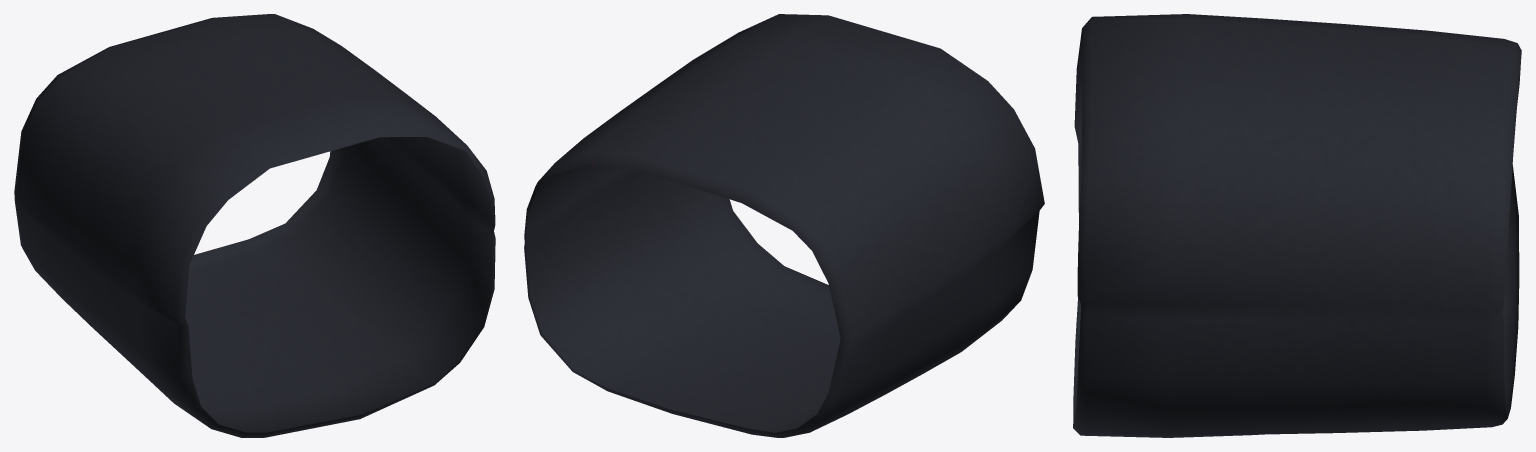
The model's file is L_WRIST_Y.obj.
The picture shows the model from 3 angles, left to right: view 1: azimuth 30°, elevation 25°; view 2: azimuth 150°, elevation 25°; view 3: azimuth 270°, elevation 25°; orthographic projection. The views are drawn at different scales.
Parts seen in each view (by area): view 1: L_WRIST_Y-465-FACES; view 2: L_WRIST_Y-465-FACES; view 3: L_WRIST_Y-465-FACES.
Boxes of the visible parts, box(x1,y1,x2,y2) form: L_WRIST_Y-465-FACES: box(14, 14, 495, 437); L_WRIST_Y-465-FACES: box(524, 14, 1044, 437); L_WRIST_Y-465-FACES: box(1073, 14, 1521, 437).
Size of the model in its own units: 0.0744 by 0.0591 by 0.0696.
Materials: 1 (1 with a texture image).
